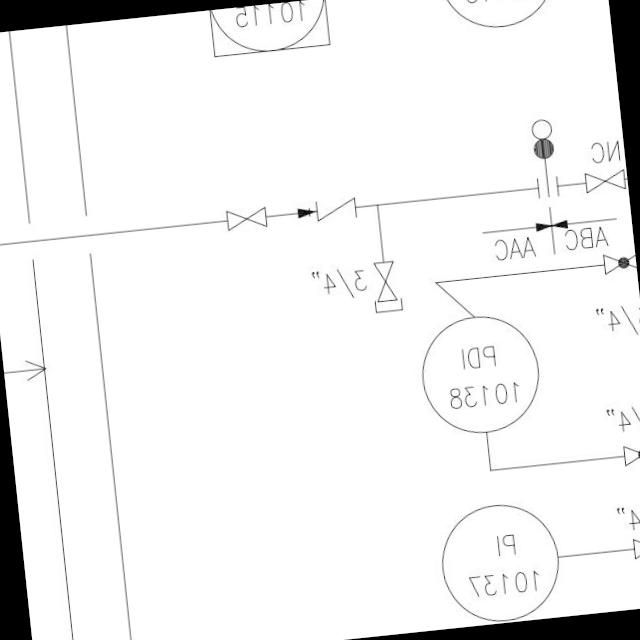EC: (361, 234, 406, 318)
GV: (222, 204, 270, 233), (579, 168, 628, 196), (373, 256, 399, 306)
